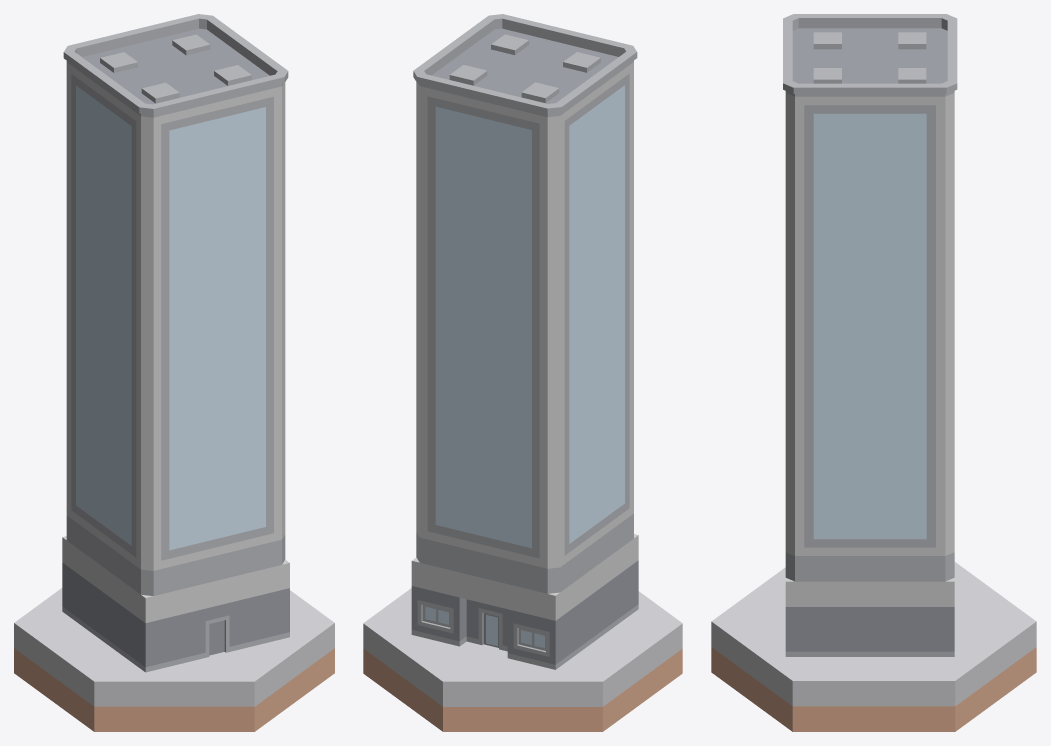
File: skyscraper_2_high.fbx
3 renders of one model, left to right at view 1: azimuth 30°, elevation 25°; view 2: azimuth 150°, elevation 25°; view 3: azimuth 270°, elevation 25°, orthographic.
Visible parts, largest first — view 1: skyscraperB, pavement_high.004; view 2: skyscraperB, pavement_high.004; view 3: skyscraperB, pavement_high.004.
Part boxes in pixels (left/top/right/bottom): skyscraperB: left=62, top=14, right=289, bottom=672; pavement_high.004: left=14, top=588, right=334, bottom=731; skyscraperB: left=411, top=14, right=638, bottom=669; pavement_high.004: left=363, top=588, right=682, bottom=731; skyscraperB: left=783, top=14, right=957, bottom=656; pavement_high.004: left=711, top=562, right=1036, bottom=731.
Size of the model in its own units: 100 by 244 by 115.
